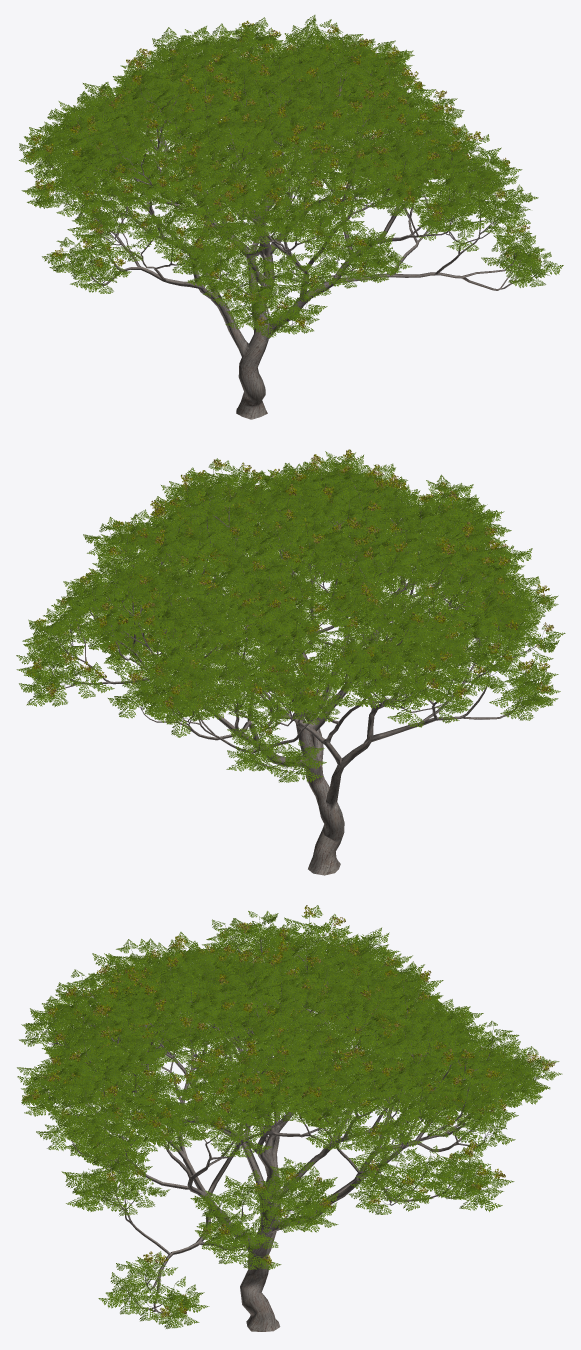
The model's file is Melia azedarach HD_Wild no flower mat 50_LOD1.fbx.
3 renders of one model, top to bottom at view 1: azimuth 30°, elevation 25°; view 2: azimuth 150°, elevation 25°; view 3: azimuth 270°, elevation 25°, orthographic. The views are drawn at different scales.
Visible parts, largest first — view 1: Melia_azedarach_HD; view 2: Melia_azedarach_HD; view 3: Melia_azedarach_HD.
Boxes of the visible parts, x1,y1,x2,y2 form: Melia_azedarach_HD: [19, 15, 563, 419]; Melia_azedarach_HD: [16, 449, 565, 875]; Melia_azedarach_HD: [17, 905, 562, 1331].
Size of the model in its own units: 8.71 by 6.41 by 8.34.
